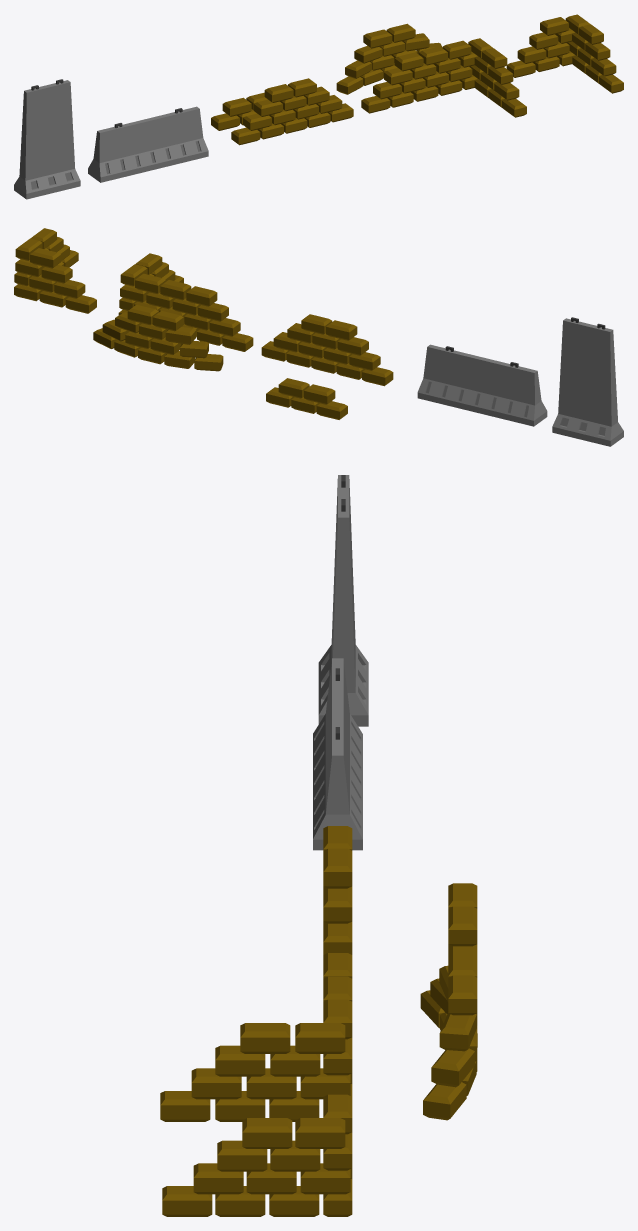
File: CoverModels.fbx
3 renders of one model, top to bottom at view 1: azimuth 30°, elevation 25°; view 2: azimuth 150°, elevation 25°; view 3: azimuth 270°, elevation 25°, orthographic. The views are drawn at different scales.
Visible parts, largest first — view 1: ConcreteBarricadeShort.001, ConcreteBarricadeTall, ConcreteBarricadeShort, ConcreteBarricadeShort.004, ConcreteBarricadeShort.014, ConcreteBarricadeShort.003, ConcreteBarricadeShort.002; view 2: ConcreteBarricadeTall, ConcreteBarricadeShort, ConcreteBarricadeShort.001, ConcreteBarricadeShort.014, ConcreteBarricadeShort.003, ConcreteBarricadeShort.004, ConcreteBarricadeShort.002; view 3: ConcreteBarricadeShort.001, ConcreteBarricadeShort.004, ConcreteBarricadeShort.003, ConcreteBarricadeShort, ConcreteBarricadeTall, ConcreteBarricadeShort.014, ConcreteBarricadeShort.002.
Part boxes in pixels (left/top/right/bottom): ConcreteBarricadeShort.001: left=361, top=38, right=526, bottom=117; ConcreteBarricadeTall: left=14, top=79, right=80, bottom=199; ConcreteBarricadeShort: left=88, top=106, right=208, bottom=182; ConcreteBarricadeShort.004: left=506, top=14, right=623, bottom=93; ConcreteBarricadeShort.014: left=231, top=78, right=353, bottom=145; ConcreteBarricadeShort.003: left=336, top=23, right=442, bottom=94; ConcreteBarricadeShort.002: left=211, top=92, right=267, bottom=130; ConcreteBarricadeTall: left=552, top=317, right=623, bottom=446; ConcreteBarricadeShort: left=417, top=344, right=547, bottom=426; ConcreteBarricadeShort.001: left=118, top=253, right=253, bottom=351; ConcreteBarricadeShort.014: left=261, top=314, right=393, bottom=386; ConcreteBarricadeShort.003: left=93, top=304, right=223, bottom=371; ConcreteBarricadeShort.004: left=14, top=228, right=96, bottom=313; ConcreteBarricadeShort.002: left=266, top=378, right=347, bottom=419; ConcreteBarricadeShort.001: left=160, top=953, right=352, bottom=1121; ConcreteBarricadeShort.004: left=162, top=1094, right=352, bottom=1216; ConcreteBarricadeShort.003: left=420, top=953, right=477, bottom=1120; ConcreteBarricadeShort: left=313, top=658, right=362, bottom=850; ConcreteBarricadeTall: left=318, top=475, right=368, bottom=726; ConcreteBarricadeShort.014: left=323, top=826, right=352, bottom=954; ConcreteBarricadeShort.002: left=448, top=883, right=477, bottom=954.
Size of the model in its own units: 5161 by 1028 by 1269.
